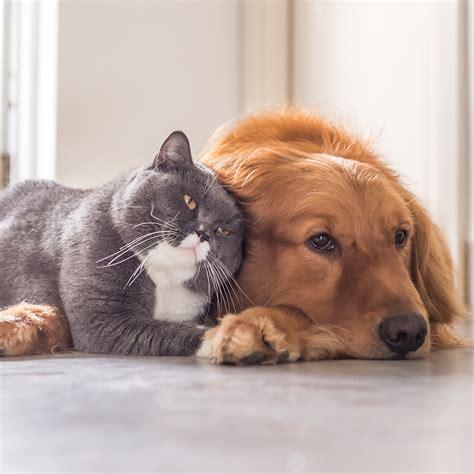cat: (1, 130, 244, 356)
dog: (198, 109, 455, 362)
